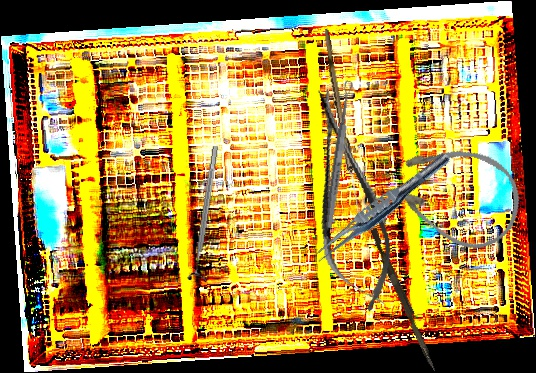Cannula: (376, 127, 533, 261)
Fixation Ring: (186, 144, 226, 283)
Micro Scissor: (292, 81, 405, 319)
Pusher: (366, 228, 442, 372)
Surgical Spoon: (319, 28, 366, 223), (323, 80, 355, 229)
Tissue Forceps: (307, 145, 455, 271)
